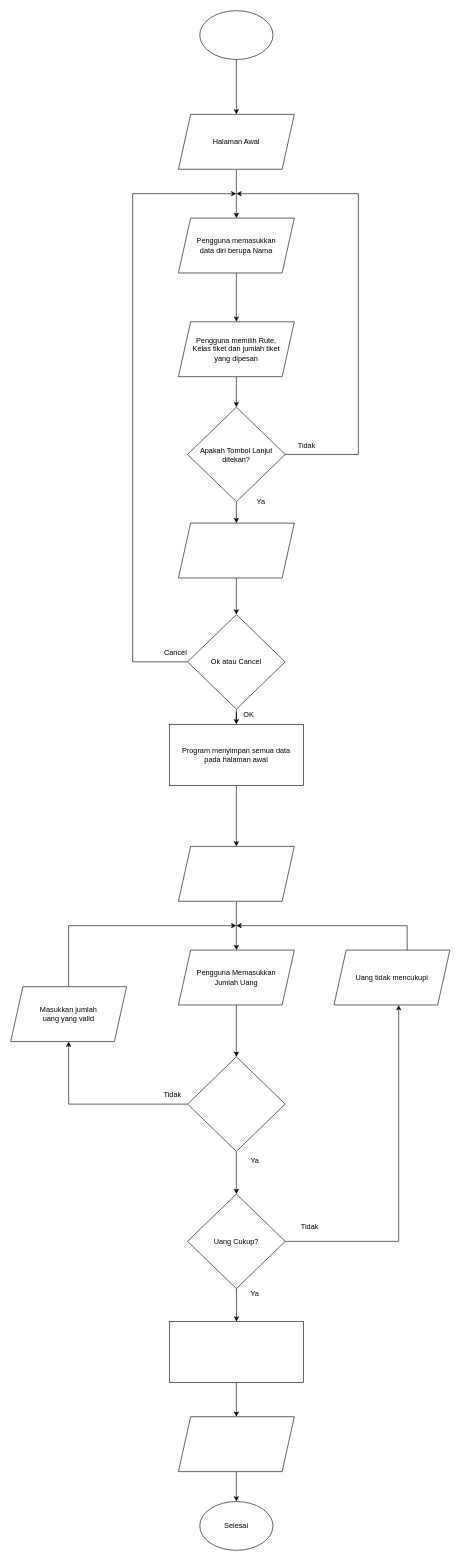
Some shapes in this 461 by 1561 pixel diagram are drawn without their labels. Here are the shapes that lost their labels. From the top down, the centre of each, then its label:
At pixel 236 34: "Mulai".
At pixel 236 550: "Menampilan messagebox dengan tombol OK atau cancel".
At pixel 236 873: "Menampilan Halaman Pembayaran".
At pixel 236 1103: "Input berupa Integer?".
At pixel 236 1352: "Program Menghitung uang kembalian".
At pixel 236 1444: "Menampilan Halaman Konfirmasi Pemesanan berhasil".
